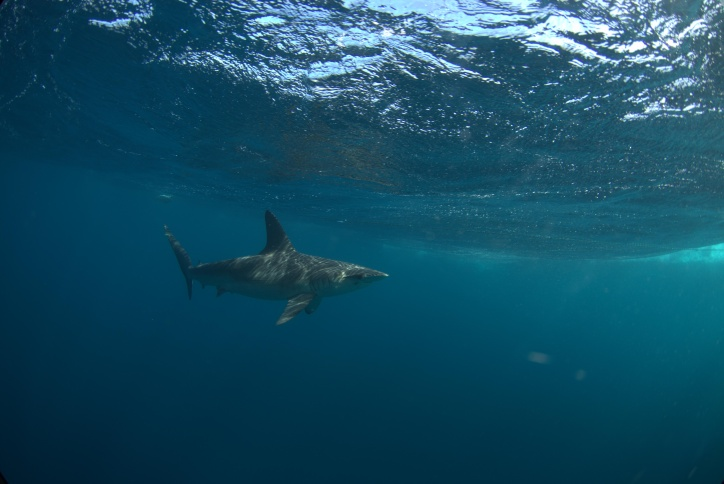Hammer: (131, 199, 409, 348)
